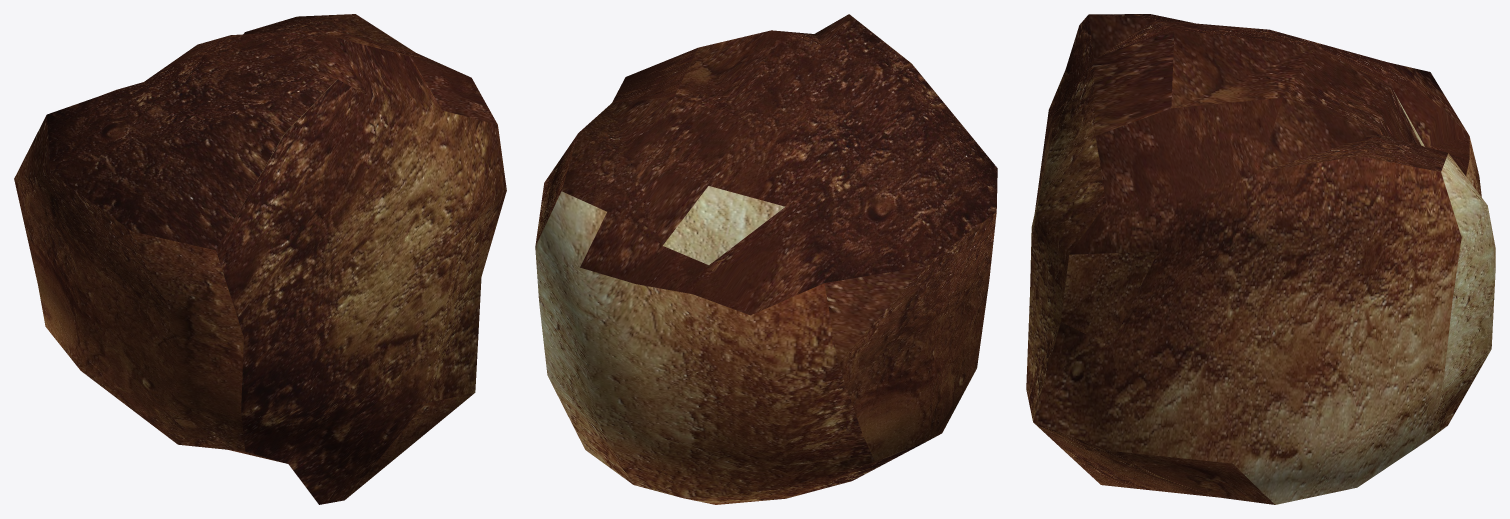
The model's file is Asteroid.dae.
3 views of the same model, side by side, from view 1: azimuth 30°, elevation 25°; view 2: azimuth 150°, elevation 25°; view 3: azimuth 270°, elevation 25° (orthographic). The views are drawn at different scales.
Parts seen in each view (by area): view 1: Cube; view 2: Cube; view 3: Cube.
Part boxes in pixels (left/top/right/bottom): Cube: left=14, top=14, right=506, bottom=504; Cube: left=535, top=14, right=997, bottom=504; Cube: left=1026, top=14, right=1495, bottom=504.
Bounding box in the file's own units: 1.27 × 1.45 × 1.32.
Materials: 1 (1 with a texture image).
